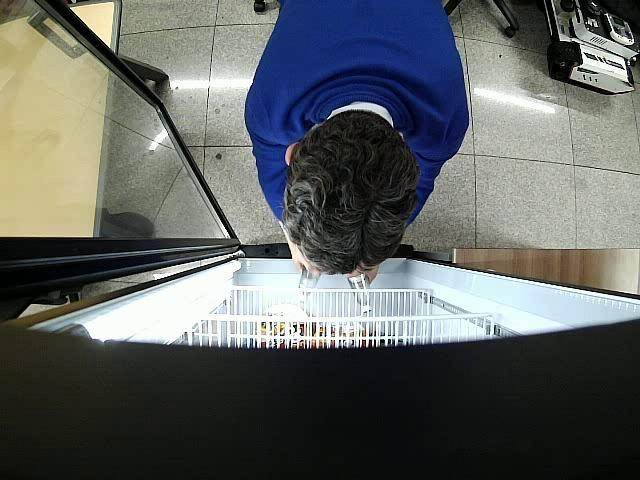18_trevi: (348, 274, 372, 312), (297, 266, 320, 300)
